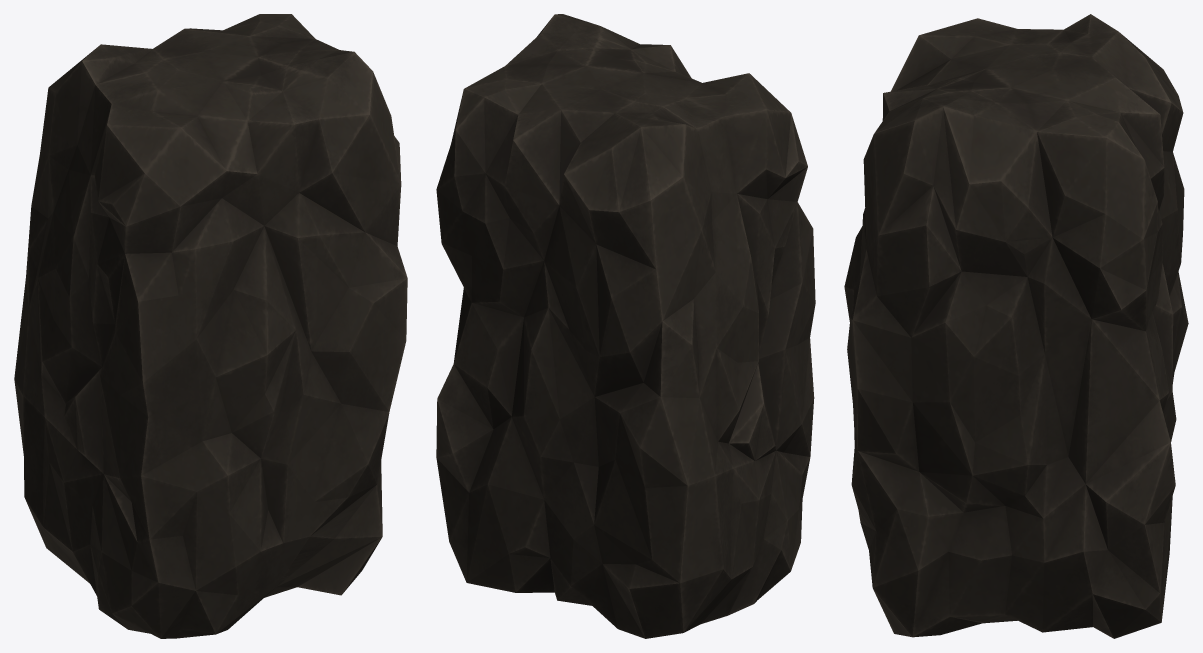
File: MKCave_SRockWallFlatTopA.FBX
3 renders of one model, left to right at view 1: azimuth 30°, elevation 25°; view 2: azimuth 150°, elevation 25°; view 3: azimuth 270°, elevation 25°, orthographic. The views are drawn at different scales.
Visible parts, largest first — view 1: MKCave_SRockWallFlatTopA_LOD0; view 2: MKCave_SRockWallFlatTopA_LOD0; view 3: MKCave_SRockWallFlatTopA_LOD0.
Part boxes in pixels (x1=…): MKCave_SRockWallFlatTopA_LOD0: x1=14, y1=14, x2=407, y2=638; MKCave_SRockWallFlatTopA_LOD0: x1=436, y1=14, x2=815, y2=638; MKCave_SRockWallFlatTopA_LOD0: x1=844, y1=14, x2=1188, y2=638.
Bounding box in the file's own units: 266 × 261 × 471.
1 material, 1 textured.
